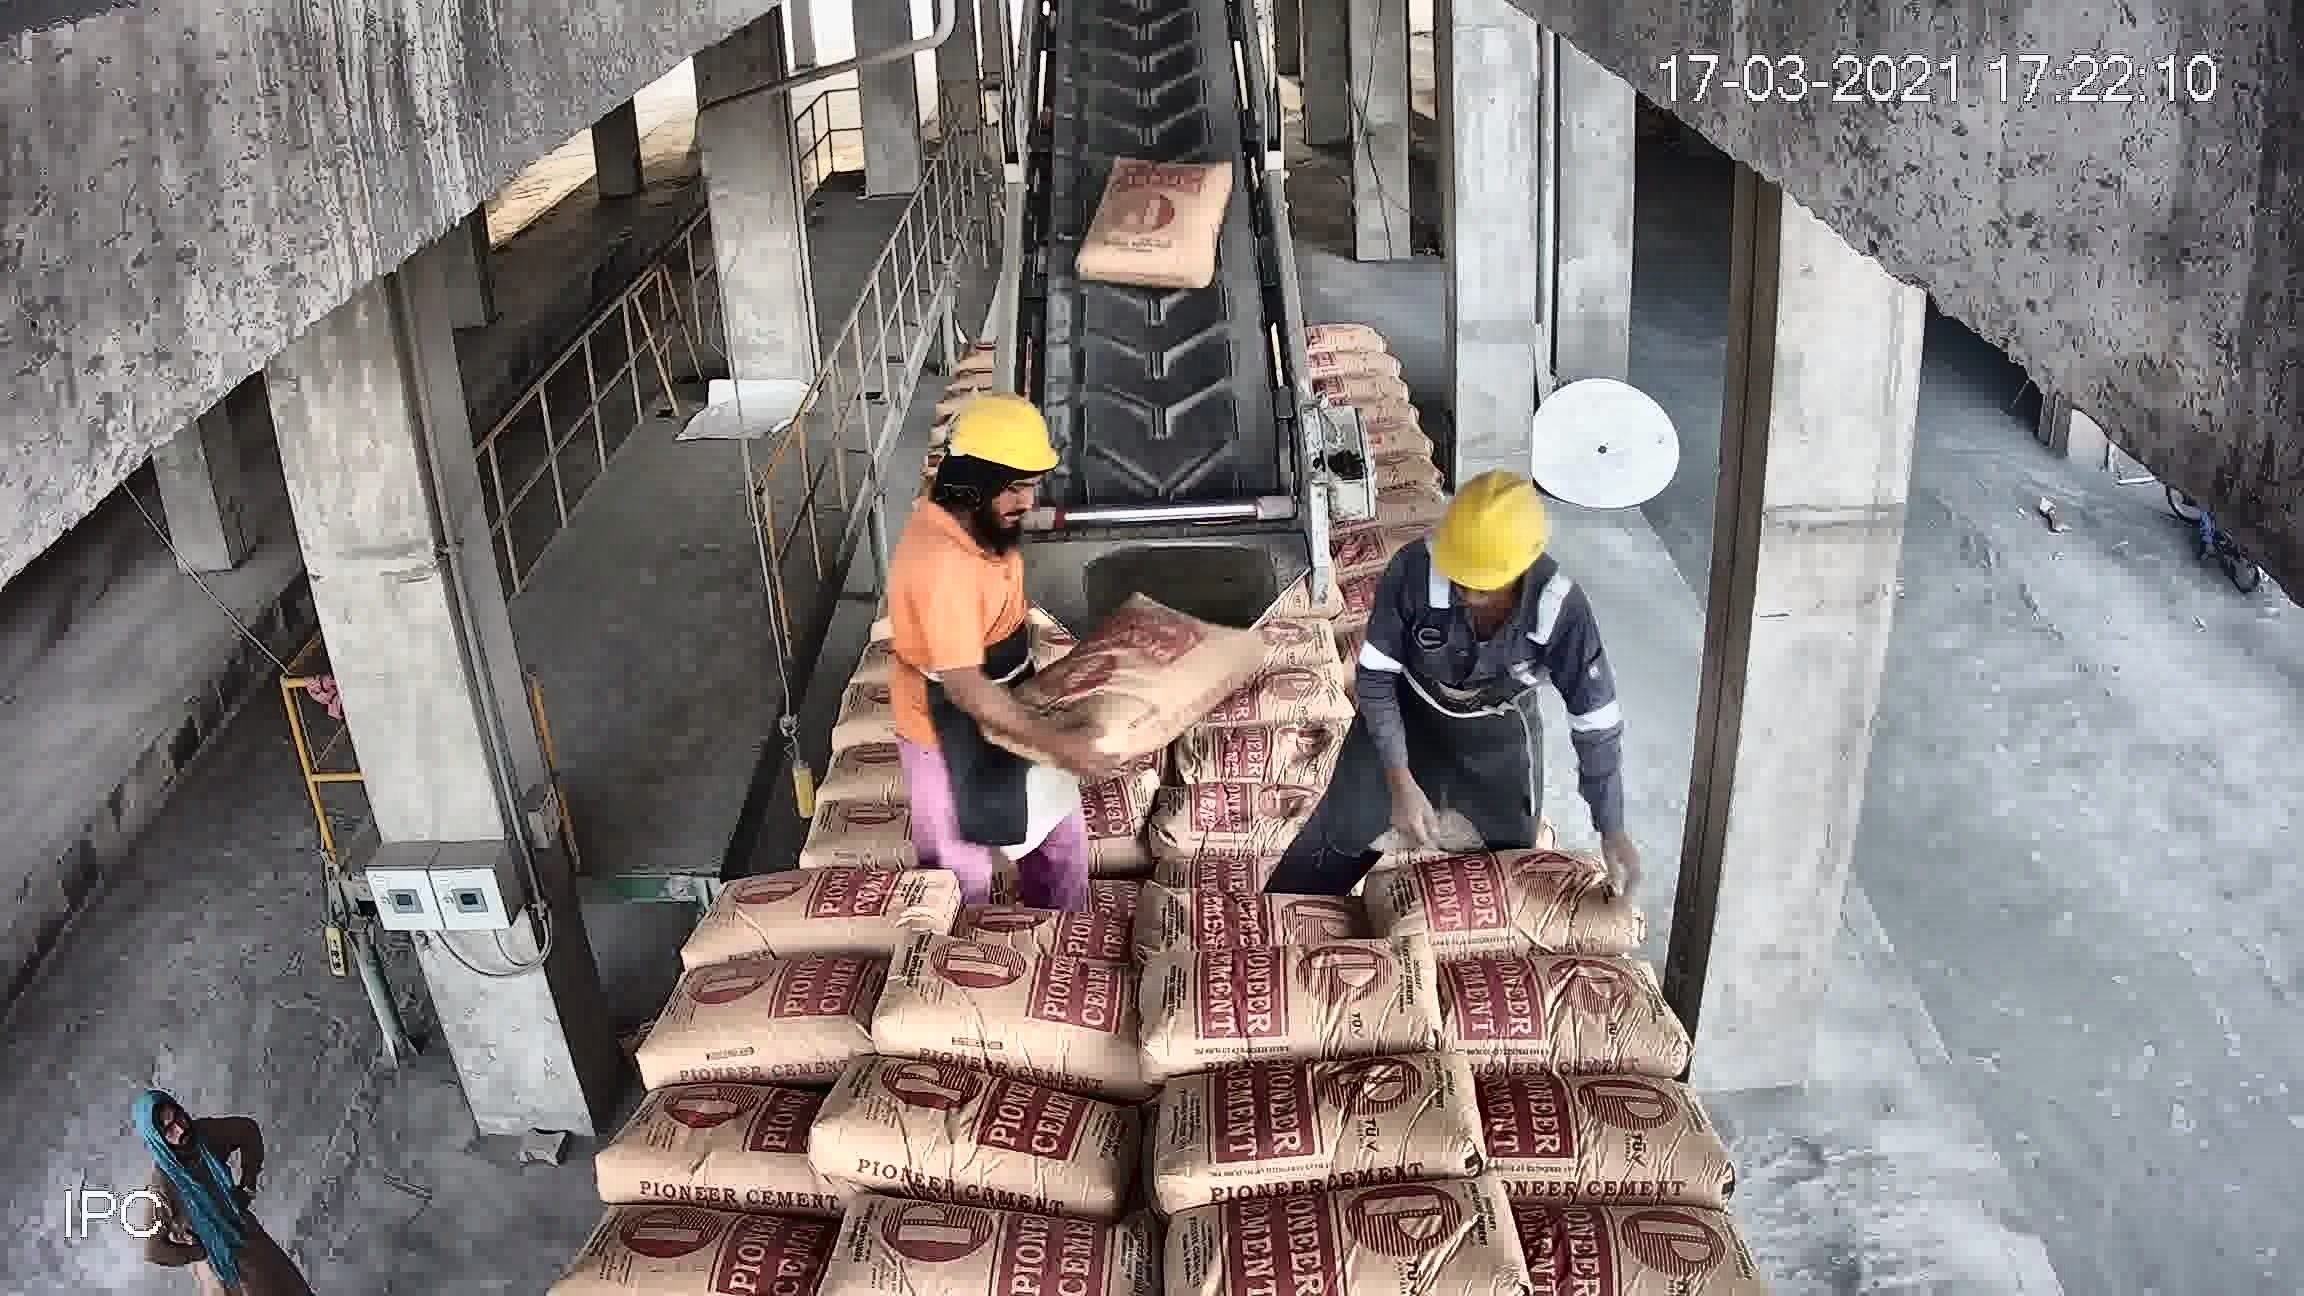bag: (1193, 524, 1426, 646)
bag_h: (1131, 1051, 1483, 1196), (788, 1089, 1152, 1214), (1120, 934, 1443, 1071), (1139, 1174, 1548, 1280), (1396, 956, 1676, 1089), (1146, 831, 1438, 942), (869, 951, 1116, 1079), (565, 1087, 840, 1195), (1486, 1074, 1726, 1195), (1494, 1184, 1750, 1294), (650, 962, 897, 1074), (1404, 855, 1636, 972), (1147, 715, 1407, 820), (813, 1220, 1149, 1296), (885, 855, 1147, 949), (535, 1211, 839, 1290), (923, 745, 1135, 845), (688, 862, 900, 959), (745, 699, 992, 780), (711, 772, 902, 872), (1396, 761, 1590, 850), (1173, 650, 1340, 729), (1035, 620, 1166, 676), (1410, 652, 1505, 726), (1048, 669, 1169, 725), (1033, 541, 1180, 582), (1041, 585, 1184, 622), (853, 639, 948, 677)
belt: (1025, 38, 1279, 494)
